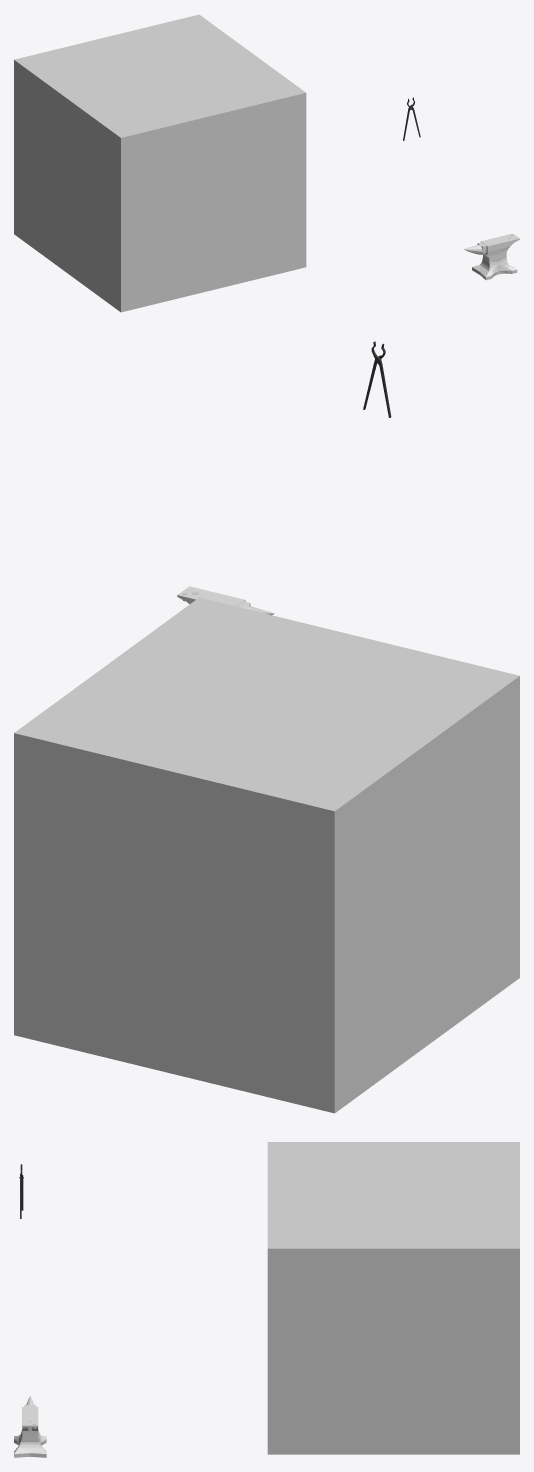
The model's file is tong1open.dae.
3 views of the same model, one above another, from view 1: azimuth 30°, elevation 25°; view 2: azimuth 150°, elevation 25°; view 3: azimuth 270°, elevation 25° (orthographic). The views are drawn at different scales.
Parts seen in each view (by area): view 1: Cube_004, Cube_002; view 2: Cube_004; view 3: Cube_004, Cube_002.
Boxes of the visible parts, box(x1,y1,x2,y2) form: Cube_004: box(14, 14, 306, 312); Cube_002: box(464, 233, 519, 280); Cube_004: box(14, 597, 519, 1113); Cube_004: box(267, 1142, 519, 1454); Cube_002: box(14, 1396, 46, 1457).
Bounding box in the file's own units: 3.18 × 4.01 × 2.53.
Materials: 1 (1 with a texture image).
